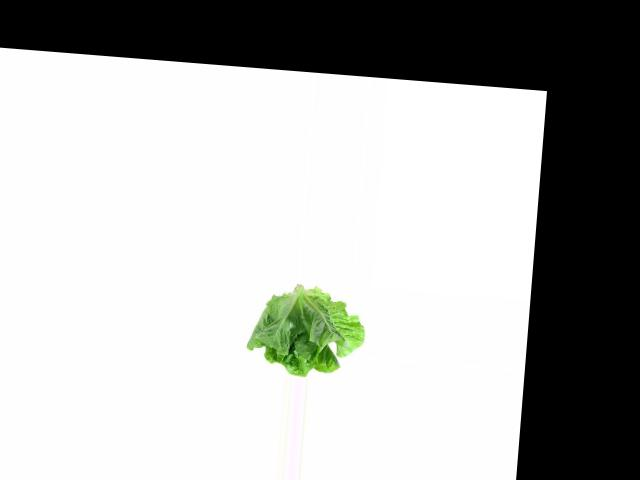lettuce: (242, 285, 366, 380)
